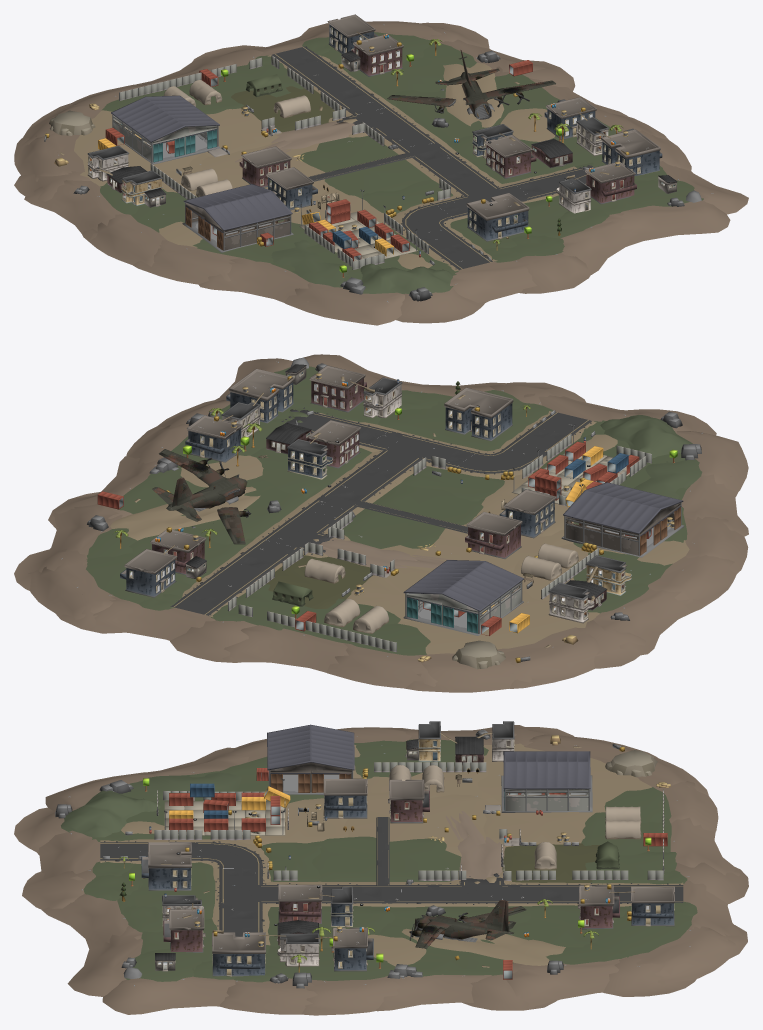
Rendered from periferia.fbx.
3 renders of one model, top to bottom at view 1: azimuth 30°, elevation 25°; view 2: azimuth 150°, elevation 25°; view 3: azimuth 270°, elevation 25°, orthographic. The views are drawn at different scales.
Visible parts, largest first — view 1: Periferia; view 2: Periferia; view 3: Periferia.
Boxes of the visible parts, x1,y1,x2,y2 form: Periferia: (14,14,748,325); Periferia: (14,354,748,692); Periferia: (14,721,748,1015).
Bounding box in the file's own units: 79328 × 6856 × 84788.
28 materials, 27 textured.
